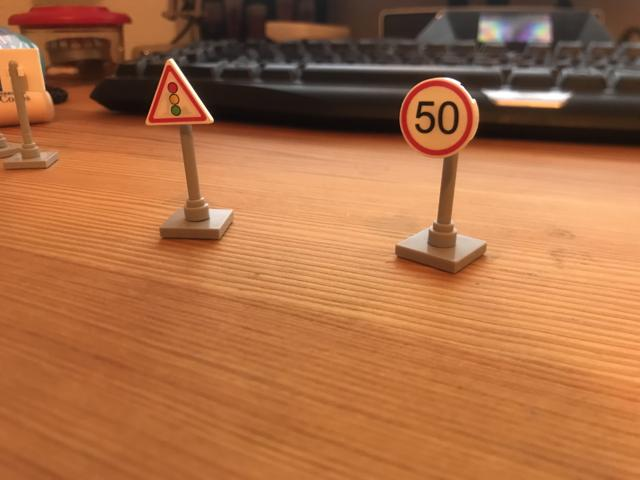lichtzeichenanlage: (142, 56, 216, 127)
tempolimit 50: (401, 76, 473, 157)
